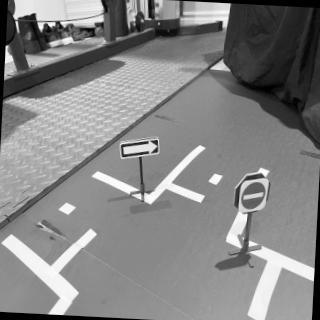sign_noentry: (239, 177, 273, 216)
sign_oneway_right: (119, 134, 162, 164)
